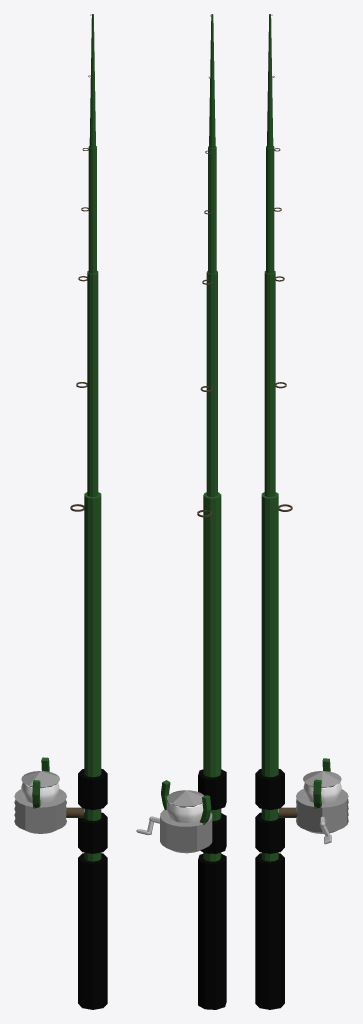
The model's file is FISHERFISH.fbx.
The picture shows the model from 3 angles, left to right: view 1: azimuth 90°, elevation 25°; view 2: azimuth 150°, elevation 25°; view 3: azimuth 270°, elevation 25°; orthographic projection.
Visible parts, largest first — view 1: Canne; view 2: Canne; view 3: Canne.
Part boxes in pixels (left/top/right/bottom): Canne: left=14, top=14, right=107, bottom=1009; Canne: left=136, top=14, right=226, bottom=1009; Canne: left=255, top=14, right=348, bottom=1009.
Size of the model in its own units: 0.4777 by 6.31 by 0.5393.
